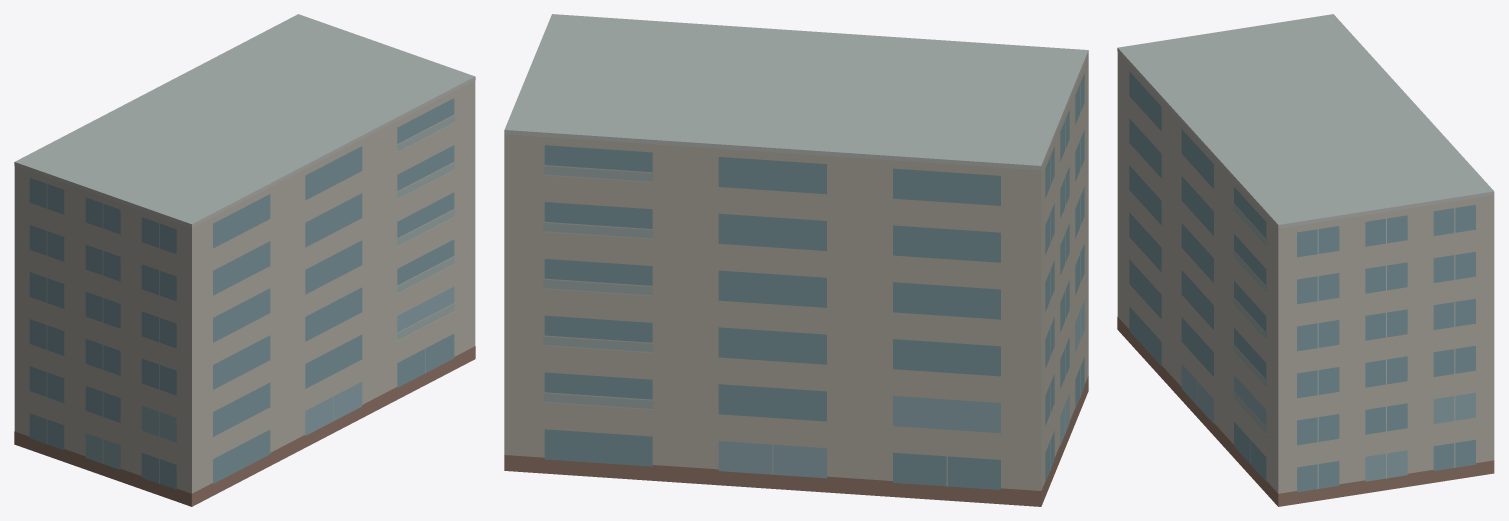
The model's file is survey-upis-32855013.glb.
The picture shows the model from 3 angles, left to right: view 1: azimuth 30°, elevation 25°; view 2: azimuth 150°, elevation 25°; view 3: azimuth 270°, elevation 25°; orthographic projection. The views are drawn at different scales.
Parts seen in each view (by area): view 1: survey-upis-32855013.tmp; view 2: survey-upis-32855013.tmp; view 3: survey-upis-32855013.tmp.
Boxes of the visible parts, left/top/right/bottom form: survey-upis-32855013.tmp: left=14, top=14, right=475, bottom=506; survey-upis-32855013.tmp: left=504, top=14, right=1088, bottom=506; survey-upis-32855013.tmp: left=1117, top=14, right=1494, bottom=506.
Size of the model in its own units: 29.85 by 18.6 by 22.54.
